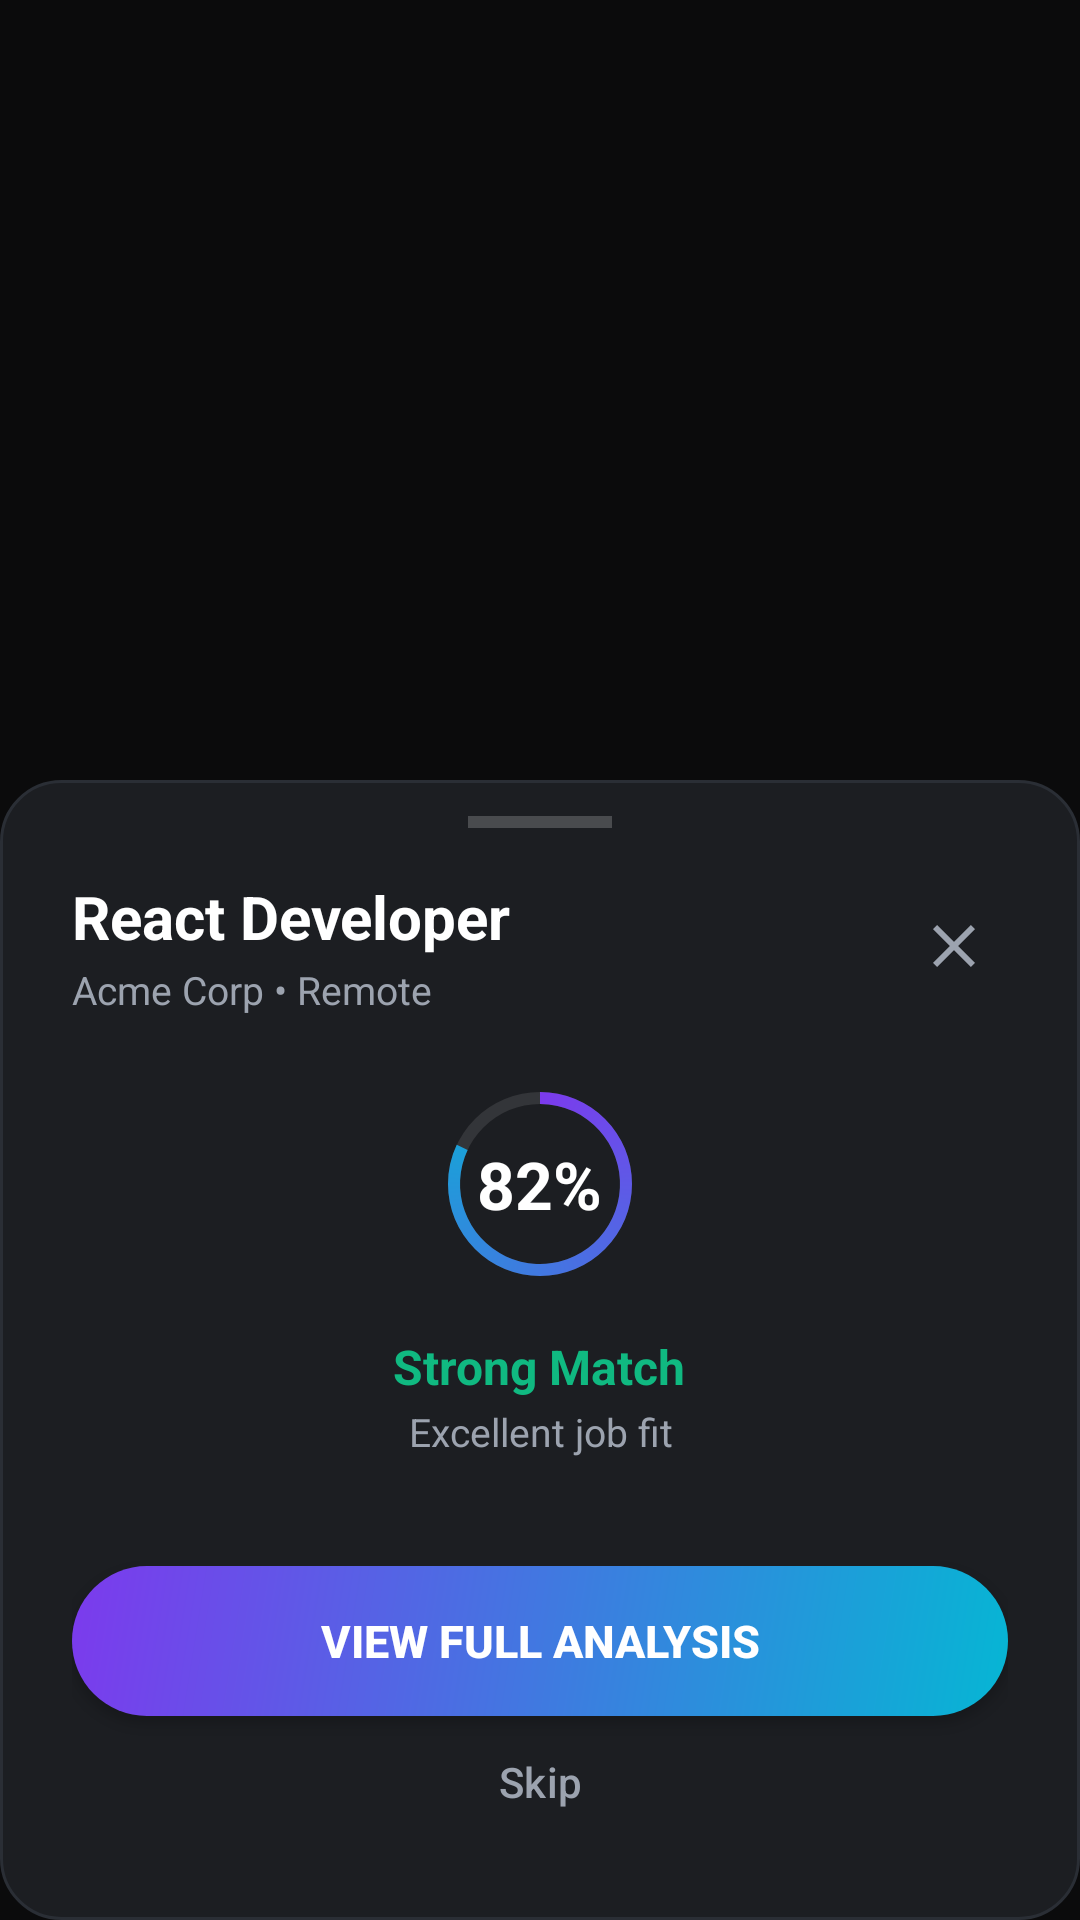

Screen size 1080 x 1920. Icon name, then its box in pixels as bbox=(x1, y1, x2, y2):
Close: bbox=(933, 925, 975, 967)
